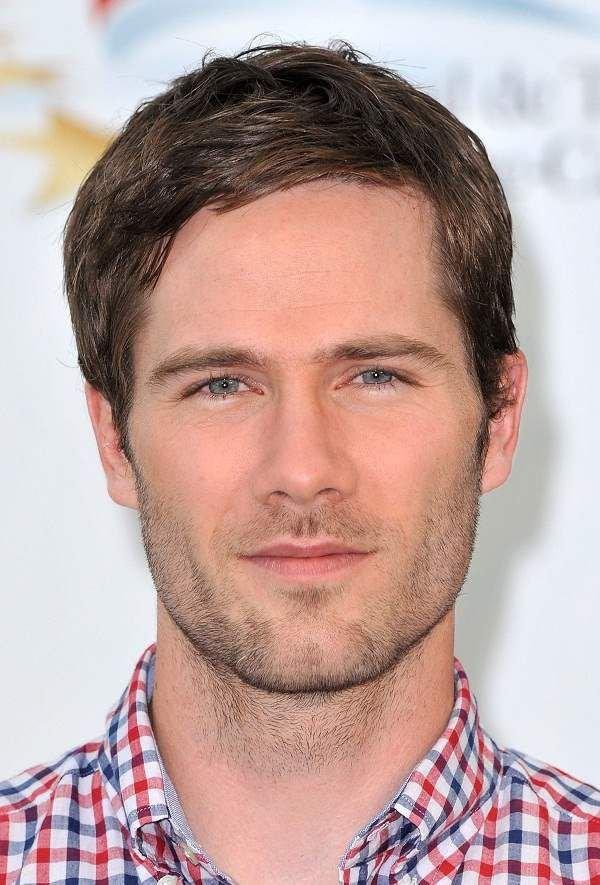Sober: (135, 206, 464, 656)
